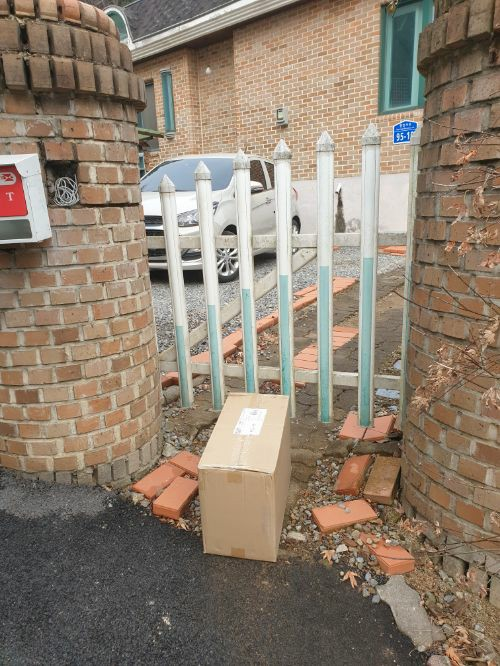undamaged: (198, 390, 292, 563)
